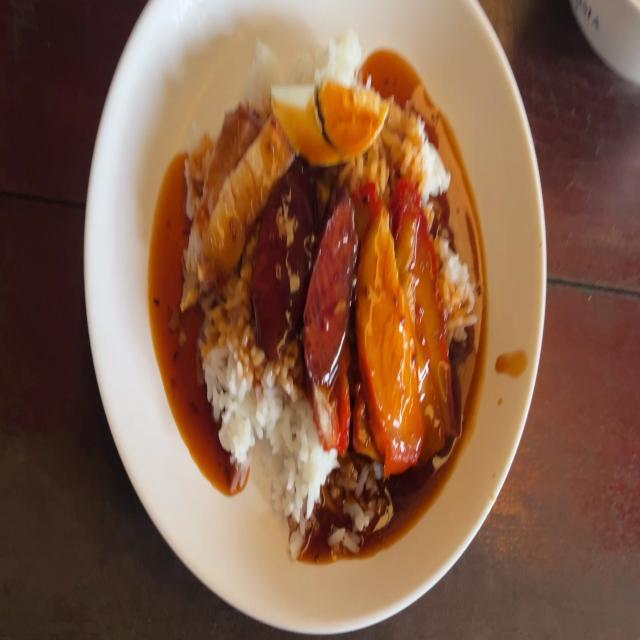01boiled_egg: (271, 81, 381, 159)
01chainese_sausage: (253, 181, 355, 361), (257, 174, 319, 342), (313, 202, 353, 366)
01crispy_pork: (185, 105, 288, 301)
01red_pork: (359, 184, 445, 456), (401, 170, 450, 458), (361, 183, 413, 450), (315, 369, 350, 445)
01red_pork_and_crispy_pork: (186, 34, 484, 530)
01rice: (219, 368, 316, 508), (208, 290, 249, 463)
